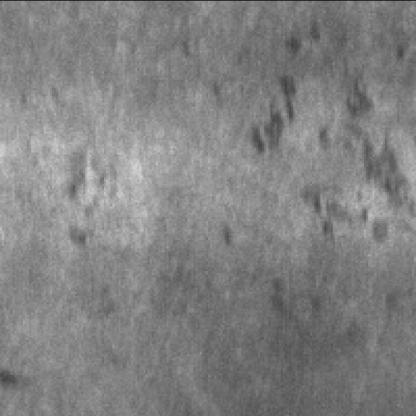rolled-in_scale: (248, 29, 416, 249), (62, 137, 123, 254)
